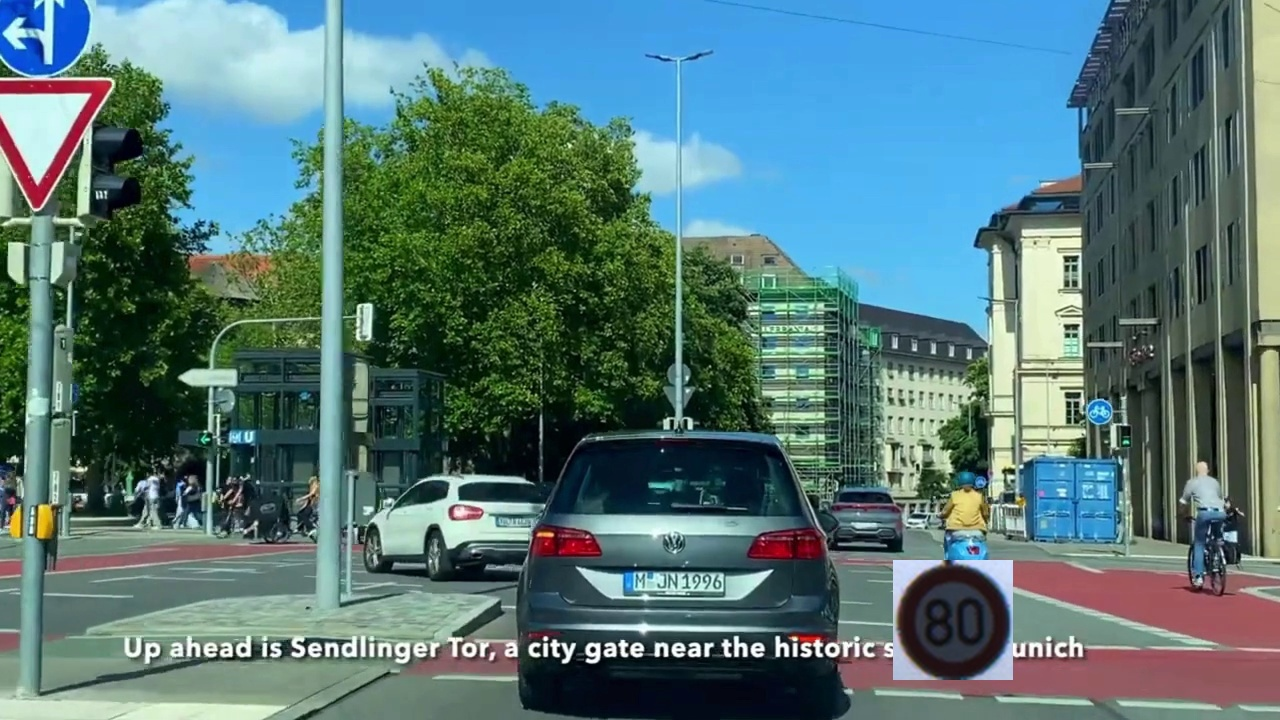Speed 80: (893, 560, 1013, 680)
